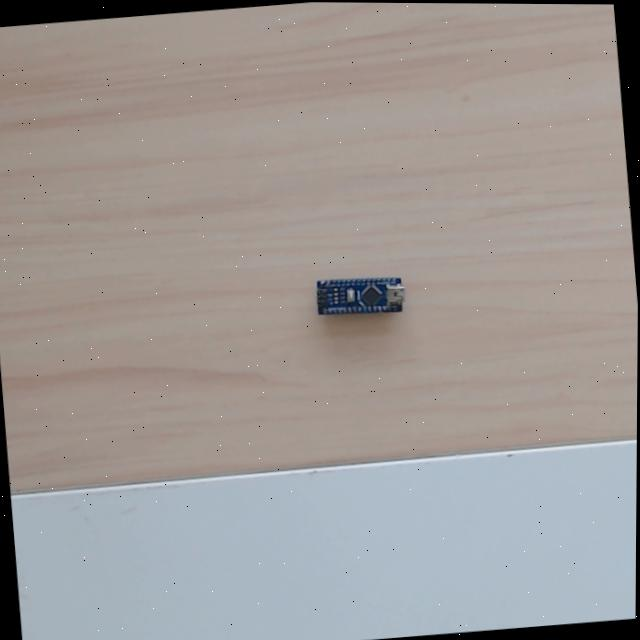Arduino-Nano: (316, 276, 407, 315)
